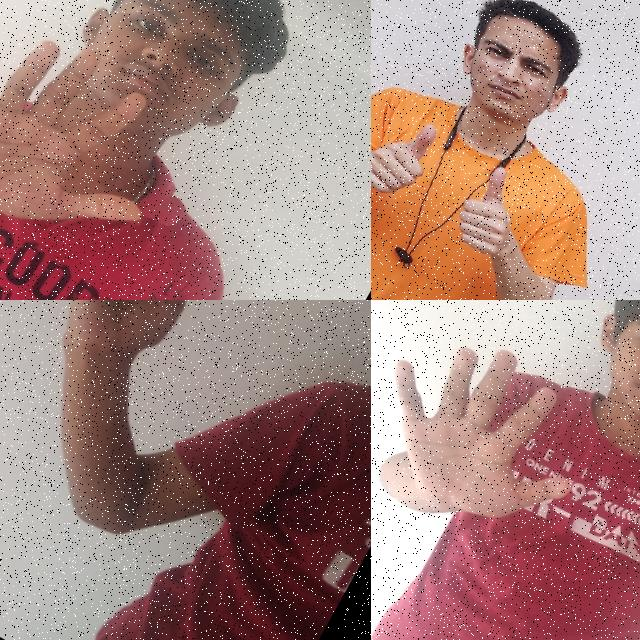Moutza: (371, 301, 624, 578), (0, 0, 211, 300)
Okay: (22, 300, 258, 419)
Thumbs Up: (436, 152, 546, 273), (371, 91, 454, 219)
